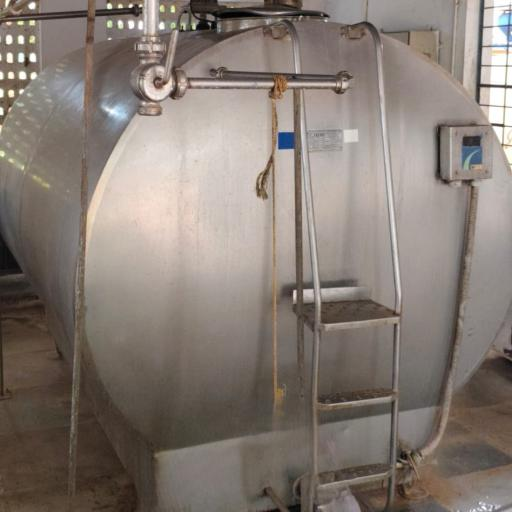silo: (0, 3, 511, 511)
